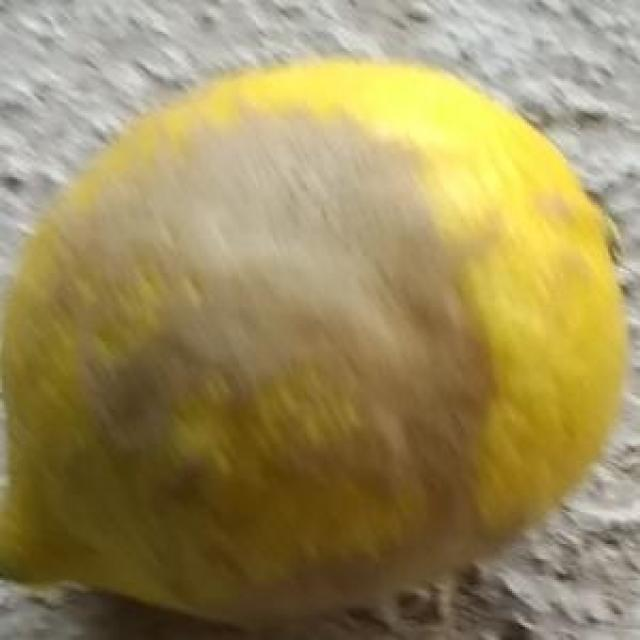lemon: (6, 57, 626, 620)
